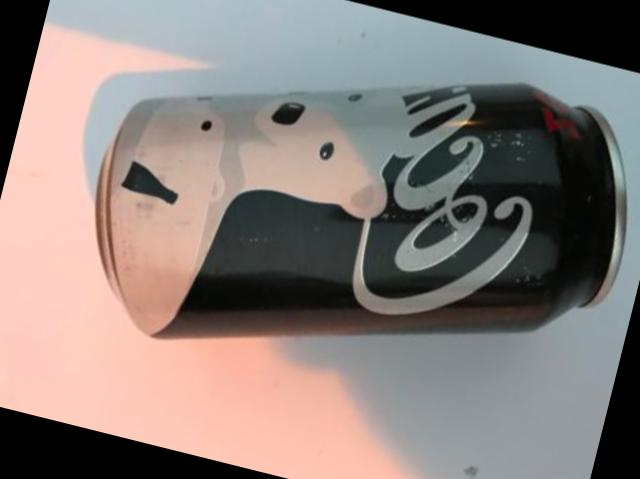metal: (94, 87, 623, 339)
